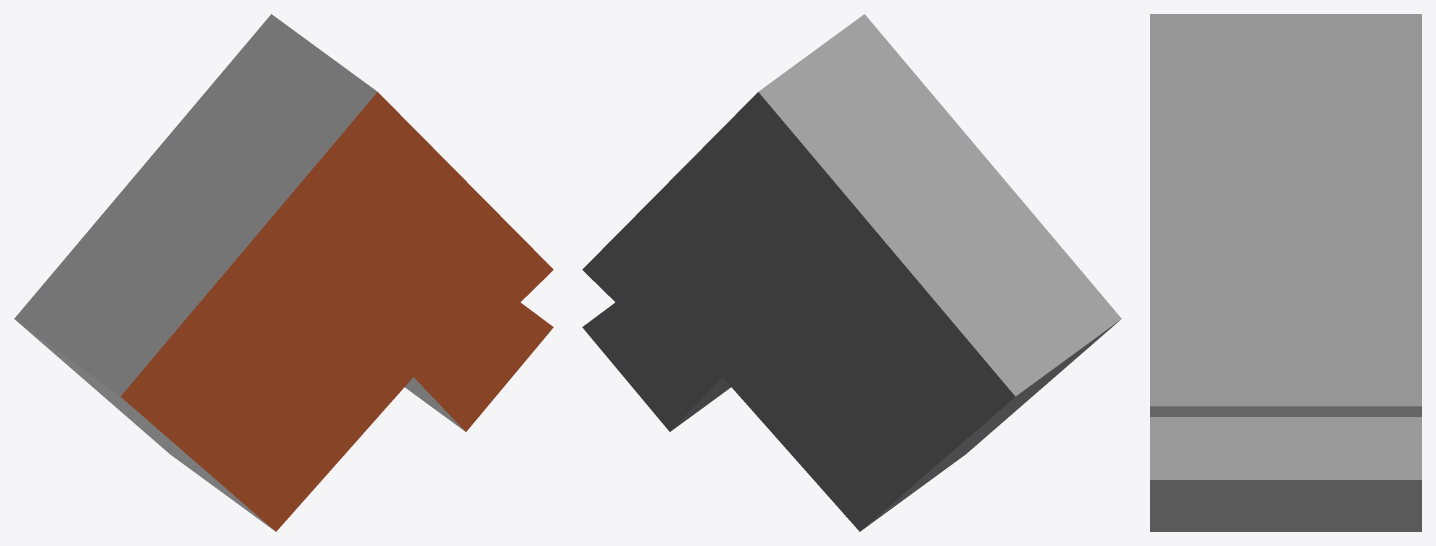
The model's file is construction_1312_assumed_A_Casa_h6m.obj.
3 renders of one model, left to right at view 1: azimuth 30°, elevation 25°; view 2: azimuth 150°, elevation 25°; view 3: azimuth 270°, elevation 25°, orthographic. The views are drawn at different scales.
Parts seen in each view (by area): view 1: construction_1312_assumed_A_Casa; view 2: construction_1312_assumed_A_Casa; view 3: construction_1312_assumed_A_Casa.
Part boxes in pixels (left/top/right/bottom): construction_1312_assumed_A_Casa: left=14, top=14, right=553, bottom=531; construction_1312_assumed_A_Casa: left=582, top=14, right=1121, bottom=531; construction_1312_assumed_A_Casa: left=1150, top=14, right=1421, bottom=531.
Bounding box in the file's own units: 14.12 × 12.93 × 6.
